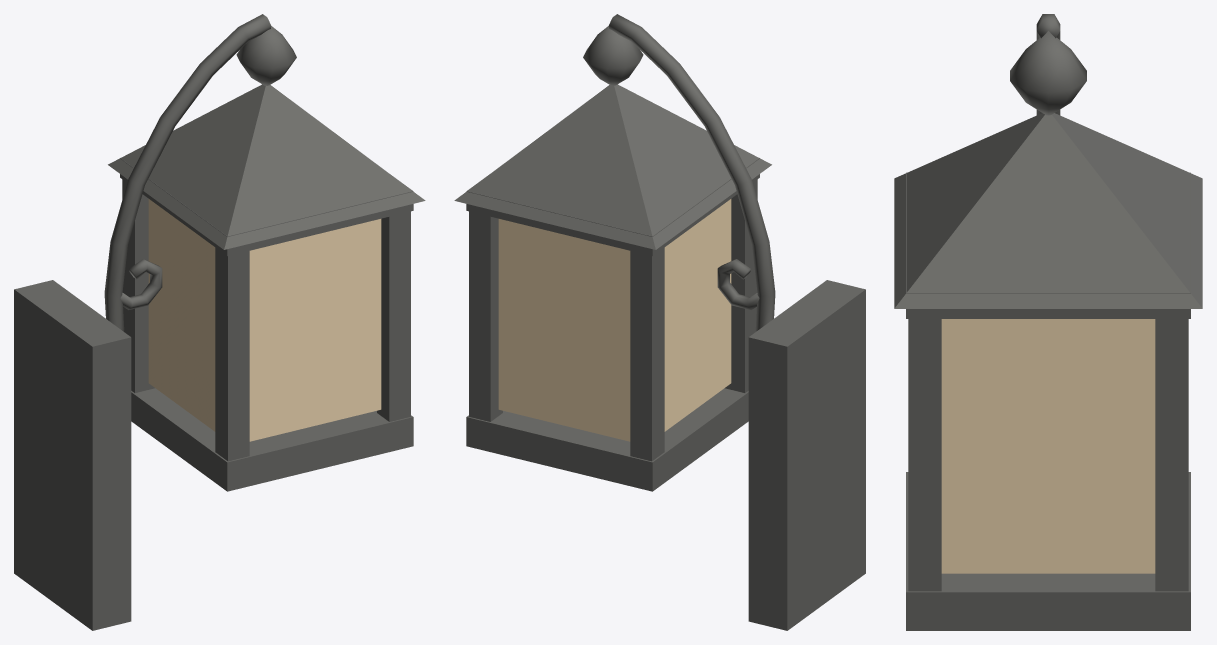
The model's file is sconce.glb.
3 views of the same model, side by side, from view 1: azimuth 30°, elevation 25°; view 2: azimuth 150°, elevation 25°; view 3: azimuth 270°, elevation 25° (orthographic). The views are drawn at different scales.
Parts seen in each view (by area): view 1: Bracket | back plate, Lantern | pyramid cap, Lantern | glowing y pane, Lantern | glowing x pane, Lantern | head bottom, Lantern | corner upright, Bracket | curved hanging arm, Lantern | corner upright.002, Lantern | corner upright.001, Lantern | head top, Lantern | rounded finial, Bracket | small curled end; view 2: Bracket | back plate, Lantern | pyramid cap, Lantern | glowing y pane.001, Lantern | glowing x pane, Lantern | head bottom, Lantern | corner upright.001, Bracket | curved hanging arm, Lantern | corner upright.003, Lantern | corner upright, Lantern | head top, Lantern | rounded finial, Bracket | small curled end; view 3: Lantern | glowing x pane.001, Lantern | pyramid cap, Lantern | head bottom, Lantern | corner upright.002, Lantern | corner upright.003, Lantern | rounded finial, Lantern | head top, Bracket | curved hanging arm.
Boxes of the visible parts, box(x1,y1,x2,y2) form: Bracket | back plate: box(14, 280, 131, 630); Lantern | pyramid cap: box(108, 84, 425, 249); Lantern | glowing y pane: box(249, 219, 381, 441); Lantern | glowing x pane: box(148, 199, 215, 431); Lantern | head bottom: box(131, 388, 413, 491); Lantern | corner upright: box(215, 247, 249, 461); Bracket | curved hanging arm: box(104, 14, 270, 331); Lantern | corner upright.002: box(377, 211, 410, 421); Lantern | corner upright.001: box(122, 179, 154, 392); Lantern | head top: box(120, 158, 413, 255); Lantern | rounded finial: box(236, 26, 296, 85); Bracket | small curled end: box(120, 259, 162, 309); Bracket | back plate: box(748, 280, 865, 630); Lantern | pyramid cap: box(454, 84, 771, 249); Lantern | glowing y pane.001: box(498, 219, 630, 441); Lantern | glowing x pane: box(664, 199, 731, 431); Lantern | head bottom: box(466, 388, 748, 491); Lantern | corner upright.001: box(630, 247, 664, 461); Bracket | curved hanging arm: box(609, 14, 775, 331); Lantern | corner upright.003: box(469, 211, 502, 421); Lantern | corner upright: box(725, 179, 757, 392); Lantern | head top: box(466, 158, 759, 255); Lantern | rounded finial: box(583, 26, 643, 85); Bracket | small curled end: box(717, 259, 759, 309); Lantern | glowing x pane.001: box(941, 319, 1155, 573); Lantern | pyramid cap: box(894, 113, 1202, 308); Lantern | head bottom: box(906, 472, 1190, 630); Lantern | corner upright.002: box(908, 319, 941, 591); Lantern | corner upright.003: box(1155, 319, 1188, 591); Lantern | rounded finial: box(1010, 31, 1086, 115); Lantern | head top: box(906, 172, 1190, 318); Bracket | curved hanging arm: box(1036, 14, 1060, 115).
Size of the model in its own units: 0.162 by 0.2635 by 0.104.
